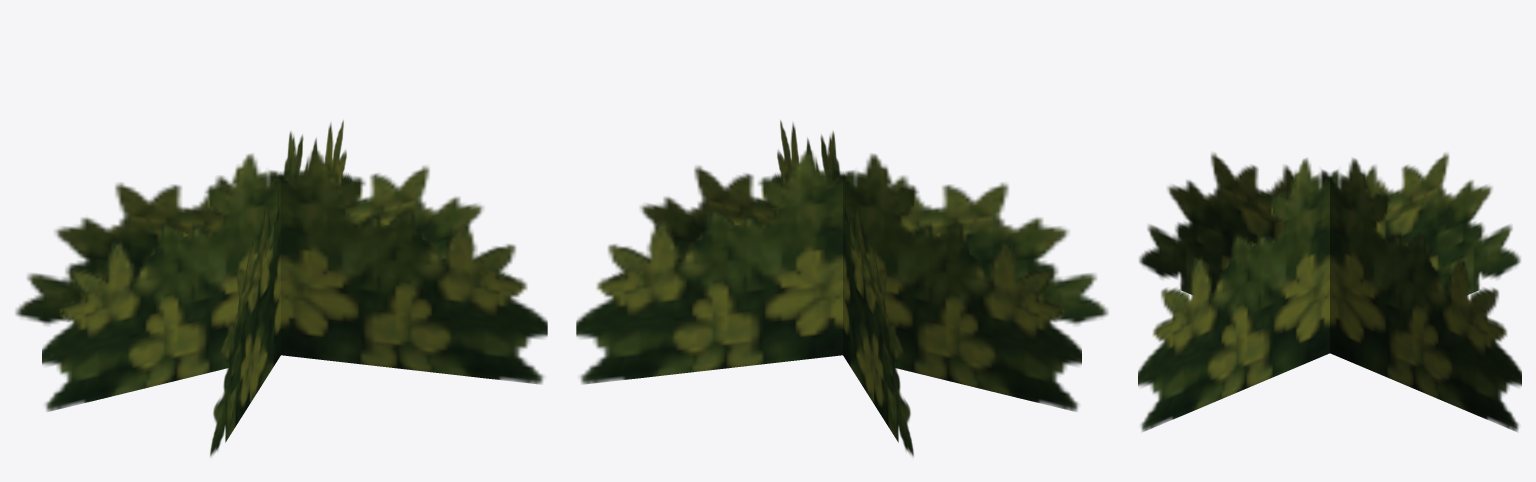
The model's file is lp_sprout_a.glb.
The picture shows the model from 3 angles, left to right: view 1: azimuth 30°, elevation 25°; view 2: azimuth 150°, elevation 25°; view 3: azimuth 270°, elevation 25°; orthographic projection.
Visible parts, largest first — view 1: lp_sprout_a; view 2: lp_sprout_a; view 3: lp_sprout_a.
Boxes of the visible parts, box(x1,y1,x2,y2) form: lp_sprout_a: box(15, 120, 547, 456); lp_sprout_a: box(576, 120, 1108, 456); lp_sprout_a: box(1138, 153, 1521, 431).
Bounding box in the file's own units: 0.5429 × 0.2479 × 0.3839.
Materials: 1 (1 with a texture image).
